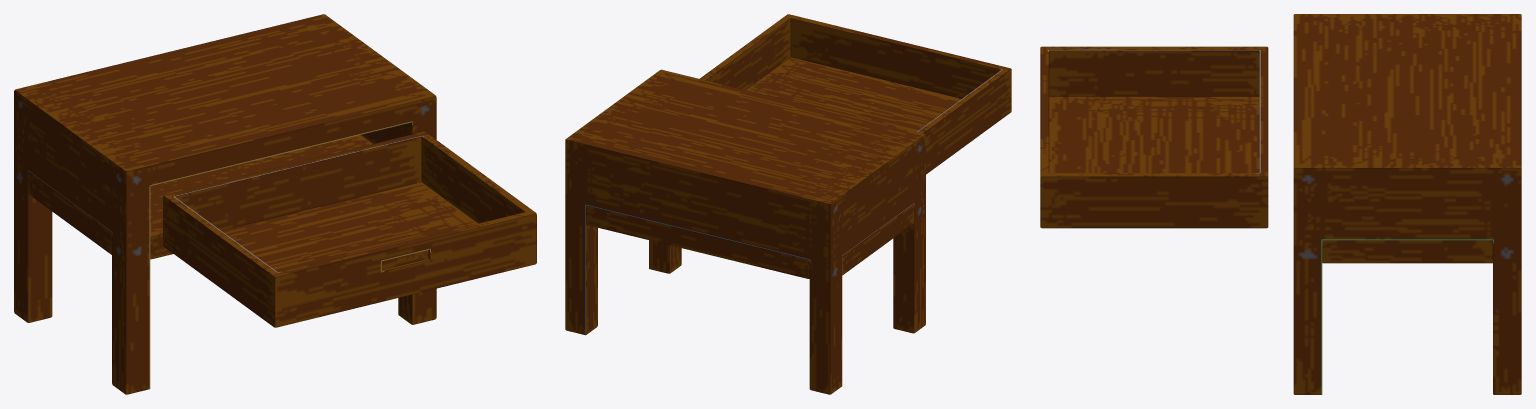
Rendered from table_placeHolder.fbx.
3 renders of one model, left to right at view 1: azimuth 30°, elevation 25°; view 2: azimuth 150°, elevation 25°; view 3: azimuth 270°, elevation 25°, orthographic. The views are drawn at different scales.
Parts seen in each view (by area): view 1: desk, drawer; view 2: desk, drawer; view 3: desk, drawer.
Boxes of the visible parts, <box> form: desk: <box>14,14,436,394</box>; drawer: <box>163,131,536,327</box>; desk: <box>565,69,925,394</box>; drawer: <box>699,14,1011,174</box>; desk: <box>1293,14,1521,394</box>; drawer: <box>1040,46,1268,228</box>.
Bounding box in the file's own units: 800 × 550 × 1056.
Materials: 1 (1 with a texture image).
